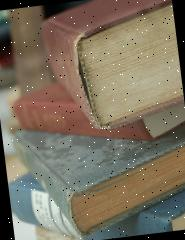paper: (9, 107, 185, 240), (37, 0, 185, 138), (8, 66, 185, 157)
